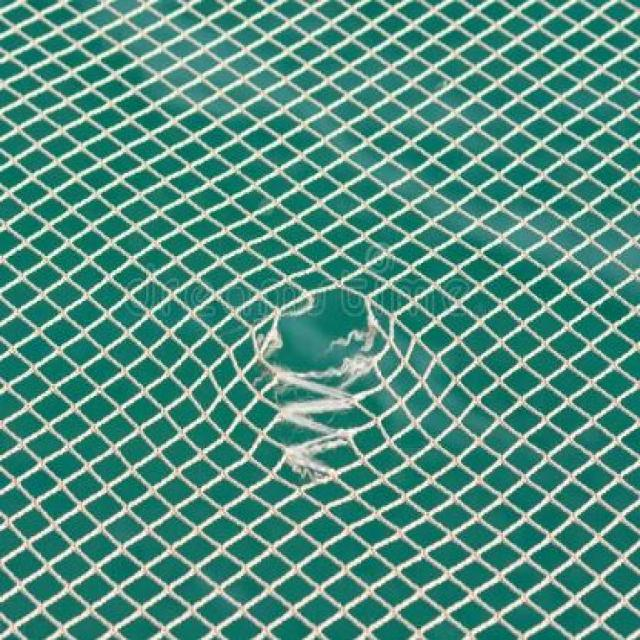fence line: (243, 248, 386, 491)
